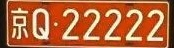Q: (33, 8, 49, 40)
